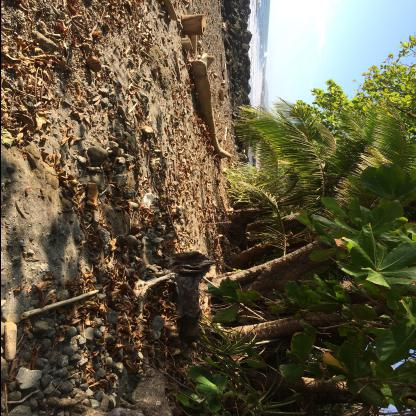plastik: (140, 192, 154, 209)
